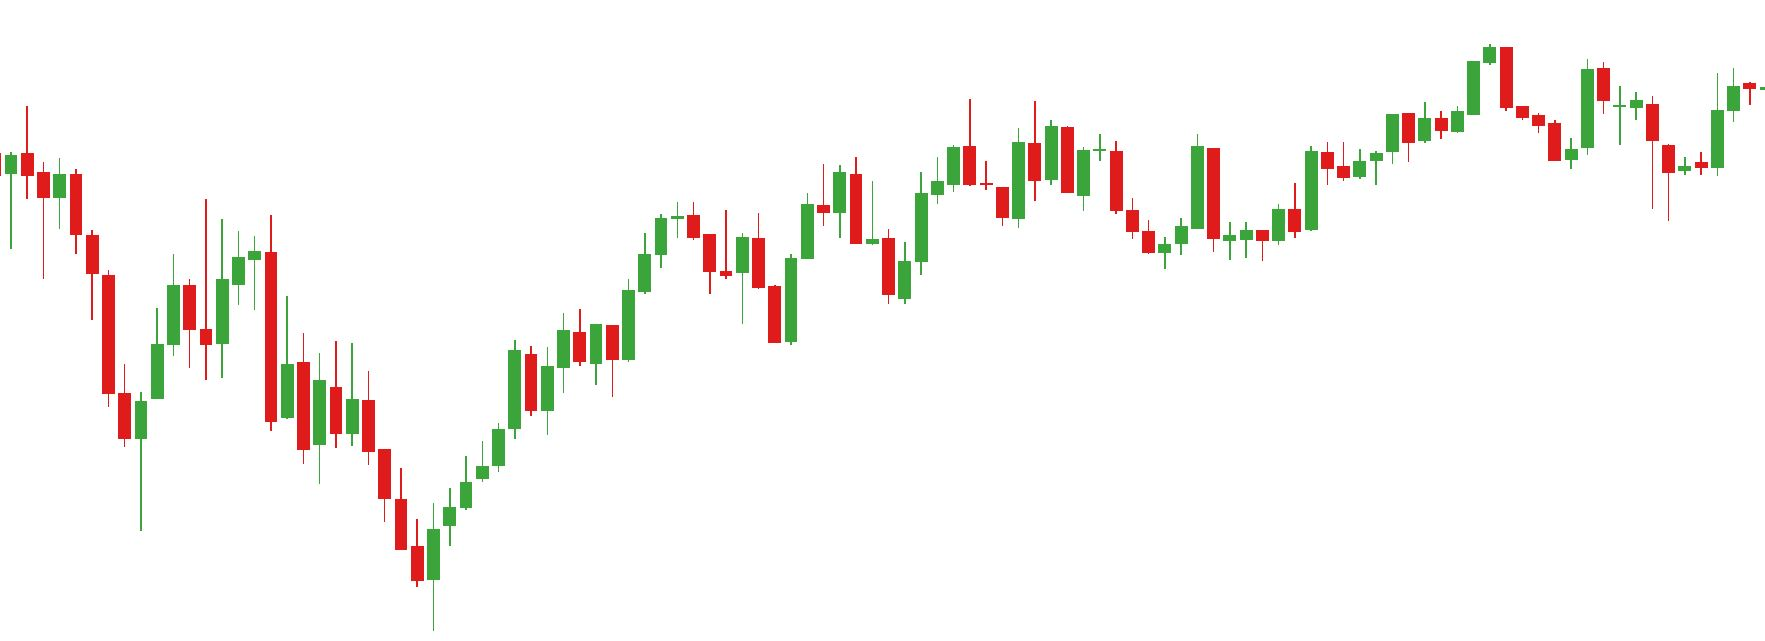buy: (994, 139, 1186, 271)
